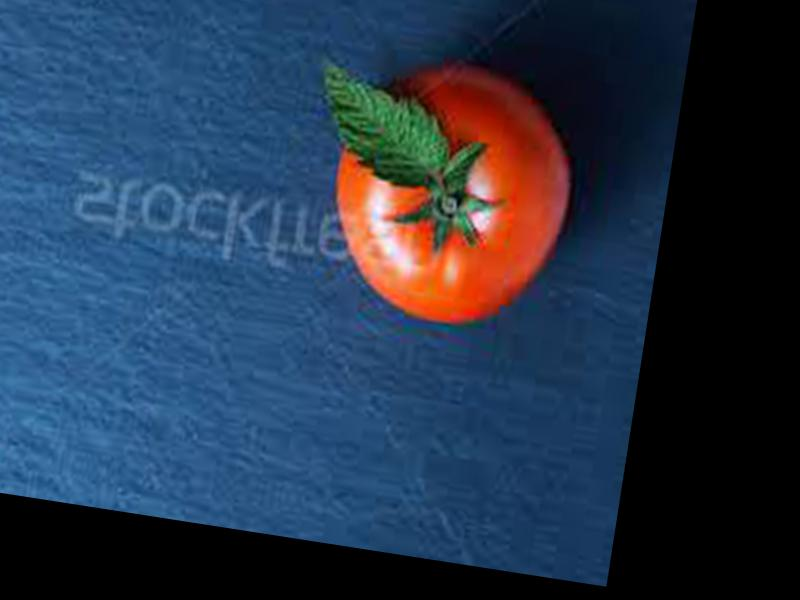Tomato: (315, 52, 583, 337)
